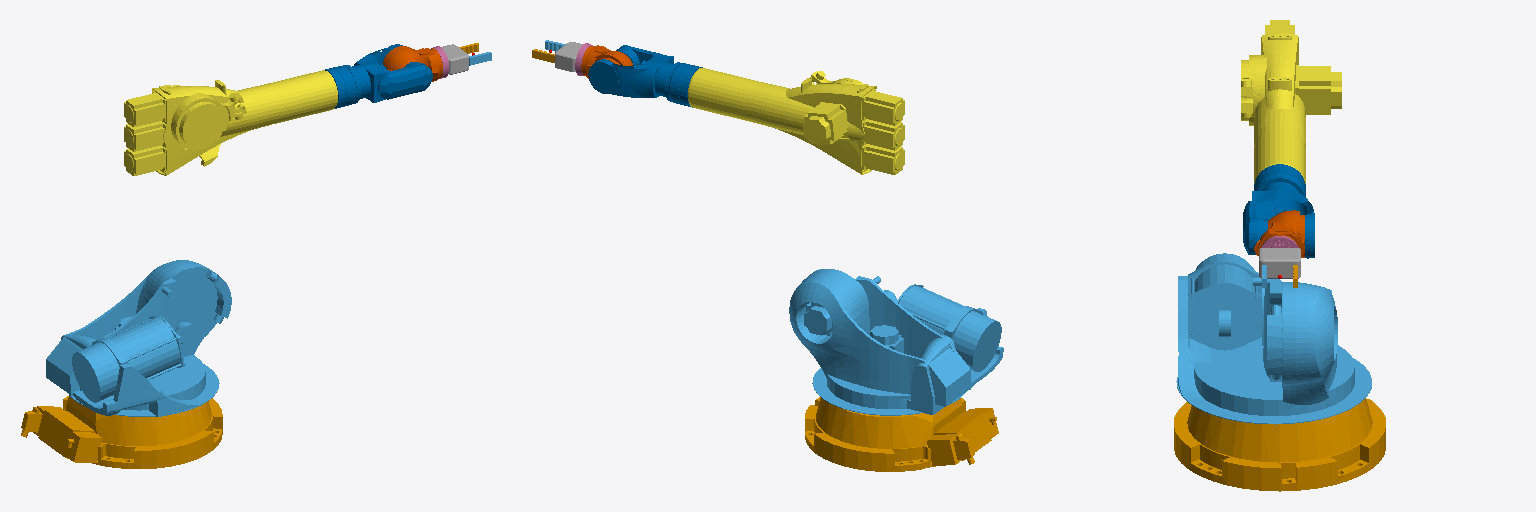
URDF robot description (robot):
<?xml version="1.0" encoding="utf-8"?>
<robot name="robot">
    <joint name="joint_1" type="revolute">
        <origin xyz="0. 0. 0.33" rpy="0. -1.5707964 0. "/>
        <parent link="robot"/>
        <child link="robot_kuka_arm_link_1_kuka_arm_link_1"/>
        <axis xyz="1. 0. 0."/>
        <limit lower="-3.2288596" upper="3.2288596" effort="0." velocity="17453.2925199"/>
    </joint>
    <joint name="joint_2" type="revolute">
        <origin xyz="0.42 0. -0.35" rpy="1.5707964 0. 1.5707964"/>
        <parent link="robot_kuka_arm_link_1_kuka_arm_link_1"/>
        <child link="kuka_arm_link_2"/>
        <axis xyz="1. 0. 0."/>
        <limit lower="-0.785398" upper="1.48353" effort="0." velocity="17453.2925199"/>
    </joint>
    <joint name="joint_3" type="revolute">
        <origin xyz="0. 0. 1.25" rpy="0. 0. 0."/>
        <parent link="kuka_arm_link_2"/>
        <child link="kuka_arm_link_3"/>
        <axis xyz="1. 0. 0."/>
        <limit lower="-3.6651898" upper="1.1344599" effort="0." velocity="17453.2925199"/>
    </joint>
    <joint name="joint_4" type="revolute">
        <origin xyz="0. -0.9599999 -0.054 " rpy="0. 0. -1.5707964"/>
        <parent link="kuka_arm_link_3"/>
        <child link="kuka_arm_link_4"/>
        <axis xyz="1. 0. 0."/>
        <limit lower="-6.1086497" upper="6.1086497" effort="0." velocity="17453.2925199"/>
    </joint>
    <joint name="joint_5" type="revolute">
        <origin xyz="0.54 0. 0. " rpy="0. 0. 1.5707964"/>
        <parent link="kuka_arm_link_4"/>
        <child link="kuka_arm_link_5"/>
        <axis xyz="1. 0. 0."/>
        <limit lower="-2.1816598" upper="2.1816598" effort="0." velocity="17453.2925199"/>
    </joint>
    <joint name="joint_6" type="revolute">
        <origin xyz="0. -0.1930001 0. " rpy="0. 0. -1.5707964"/>
        <parent link="kuka_arm_link_5"/>
        <child link="kuka_arm_link_6"/>
        <axis xyz="1. 0. 0."/>
        <limit lower="-6.1086497" upper="6.1086497" effort="0." velocity="17453.2925199"/>
    </joint>
    <joint name="left_gripper_finger_joint" type="prismatic">
        <origin xyz="0.26 0.0725 0. " rpy="3.1415927 0. -1.5707964"/>
        <parent link="kuka_arm_link_6"/>
        <child link="left_gripper_finger_link"/>
        <axis xyz="1. 0. 0."/>
        <limit lower="-0.01" upper="0.06" effort="0." velocity="1000000."/>
    </joint>
    <joint name="right_gripper_finger_joint" type="prismatic">
        <origin xyz="0.26 -0.0725 0. " rpy="0. 0. 1.5707964"/>
        <parent link="kuka_arm_link_6"/>
        <child link="right_gripper_finger_link"/>
        <axis xyz="1. 0. 0."/>
        <limit lower="-0.01" upper="0.06" effort="0." velocity="1000000."/>
    </joint>

    <joint name="gripper_joint" type="fixed">
        <parent link="kuka_arm_link_6"/>
        <child link="gripper_link"/>
        <origin rpy="1.57 0 0" xyz="0.11 0 0"/>
        <axis xyz="0 1 0"/>
    </joint>
    <joint name="gripper_tcp_joint" type="fixed">
        <origin rpy="0 0 0" xyz="0 0 0.05"/>
        <parent link="gripper_link"/>
        <child link="gripper_tcp"/>
    </joint>

    <link name="robot">
        <visual>
            <origin xyz="0. 0. 0." rpy="-0.0000091 0. 0. "/>
            <geometry>
                <mesh filename="meshes/worldBody___visuals___mesh.obj" scale="1. 1. 1."/>
            </geometry>
        </visual>
    </link>
    <link name="robot_kuka_arm_link_1_kuka_arm_link_1">
        <visual>
            <origin xyz="0. 0. 0." rpy="1.570788 1.5707964 0. "/>
            <geometry>
                <mesh filename="meshes/robot_kuka_arm_link_1_kuka_arm_link_1_visuals_mesh.obj" scale="1. 1. 1."/>
            </geometry>
        </visual>
        <visual>
            <origin xyz="0. 0. 0." rpy="1.570788 1.5707964 0. "/>
            <geometry>
                <mesh filename="meshes/robot_kuka_arm_link_1_kuka_arm_link_1_collisions_mesh.obj" scale="1. 1. 1."/>
            </geometry>
        </visual>
        <collision name="sphere_23">
            <origin xyz="0.3853171231791153 3.016968403539145e-18 -0.40294019359870453" rpy="0 0 0"/>
            <geometry>
                <sphere radius="0.2969944905889949"/>
            </geometry>
        </collision>
        <collision name="sphere_24">
            <origin xyz="0.3039056973264224 0.11361252012600448 0.26311786827710804" rpy="0 0 0"/>
            <geometry>
                <sphere radius="0.3855194494710704"/>
            </geometry>
        </collision>
        <collision name="sphere_25">
            <origin xyz="0.22964270798733716 -0.200145579561204 0.3321878437575019" rpy="0 0 0"/>
            <geometry>
                <sphere radius="0.33548914118220985"/>
            </geometry>
        </collision>
        <collision name="sphere_26">
            <origin xyz="0.35967081545282925 -0.27340428279409357 -0.03932870071404963" rpy="0 0 0"/>
            <geometry>
                <sphere radius="0.24332780241870738"/>
            </geometry>
        </collision>
        <collision name="sphere_27">
            <origin xyz="0.3497125792823665 0.1622123310040399 -0.07363408827195533" rpy="0 0 0"/>
            <geometry>
                <sphere radius="0.3158090818304898"/>
            </geometry>
        </collision>
    </link>
    <link name="kuka_arm_link_2">
        <visual>
            <origin xyz="0. 0. 0." rpy="-0.0000091 0. -1.5707964"/>
            <geometry>
                <mesh filename="meshes/kuka_arm_link_2_visuals_mesh.obj" scale="1. 1. 1."/>
            </geometry>
        </visual>
        <collision name="sphere_0">
            <origin xyz="-0.10056914088729499 0.0 0.0" rpy="0 0 0"/>
            <geometry>
                <sphere radius="0.312562771404809"/>
            </geometry>
        </collision>
        <collision name="sphere_1">
            <origin xyz="-0.20296284362704328 -5.551115123125783e-17 0.19267381739225486" rpy="0 0 0"/>
            <geometry>
                <sphere radius="0.2882773280117739"/>
            </geometry>
        </collision>
        <collision name="sphere_2">
            <origin xyz="-0.2688235077381462 0.0 0.5120850632241715" rpy="0 0 0"/>
            <geometry>
                <sphere radius="0.2599685374907719"/>
            </geometry>
        </collision>
        <collision name="sphere_3">
            <origin xyz="-0.2429457297559245 -1.6653345369377348e-16 0.7897212102688002" rpy="0 0 0"/>
            <geometry>
                <sphere radius="0.25693811033217645"/>
            </geometry>
        </collision>
        <collision name="sphere_4">
            <origin xyz="-0.2322697986708392 0.0 1.0466995171922129" rpy="0 0 0"/>
            <geometry>
                <sphere radius="0.25693811033217645"/>
            </geometry>
        </collision>
        <collision name="sphere_5">
            <origin xyz="-0.2018643112478043 -5.551115123125783e-17 1.2173413182504351" rpy="0 0 0"/>
            <geometry>
                <sphere radius="0.23358661898327102"/>
            </geometry>
        </collision>
    </link>
    <link name="kuka_arm_link_3">
        <visual>
            <origin xyz="-0.184 0. 0. " rpy="-0.0000091 0. -1.5707964"/>
            <geometry>
                <mesh filename="meshes/kuka_arm_link_3_visuals_mesh.obj" scale="1. 1. 1."/>
            </geometry>
        </visual>
        <collision name="sphere_6">
            <origin xyz="-1.3010518714054659e-17 0.31055029167029724 -0.03488192925599143" rpy="0 0 0"/>
            <geometry>
                <sphere radius="0.32892536519372145"/>
            </geometry>
        </collision>
        <collision name="sphere_7">
            <origin xyz="-0.010269733629968511 5.551115123125783e-17 0.0" rpy="0 0 0"/>
            <geometry>
                <sphere radius="0.37246399938456065"/>
            </geometry>
        </collision>
        <collision name="sphere_8">
            <origin xyz="-0.004899208735049537 -0.4036089099633981 -0.02669932418063703" rpy="0 0 0"/>
            <geometry>
                <sphere radius="0.20655031539590454"/>
            </geometry>
        </collision>
        <collision name="sphere_9">
            <origin xyz="-2.775566825985752e-17 -0.650587462939314 -0.05279828184548685" rpy="0 0 0"/>
            <geometry>
                <sphere radius="0.20655031539590454"/>
            </geometry>
        </collision>
        <collision name="sphere_10">
            <origin xyz="-1.3877880452043063e-17 -0.8658041427243452 -0.05263752410922362" rpy="0 0 0"/>
            <geometry>
                <sphere radius="0.20655031539590454"/>
            </geometry>
        </collision>
    </link>
    <link name="kuka_arm_link_4">
        <visual>
            <origin xyz="0. 0. 0." rpy="-0.0000091 0. 0. "/>
            <geometry>
                <mesh filename="meshes/kuka_arm_link_4_visuals_mesh.obj" scale="1. 1. 1."/>
            </geometry>
        </visual>
        <collision name="sphere_11">
            <origin xyz="0.047247304363761344 8.326678640389084e-17 -2.220446049250313e-16" rpy="0 0 0"/>
            <geometry>
                <sphere radius="0.1794211617259098"/>
            </geometry>
        </collision>
        <collision name="sphere_12">
            <origin xyz="0.3010660948523467 1.3877793763514867e-16 -4.440892098500626e-16" rpy="0 0 0"/>
            <geometry>
                <sphere radius="0.1794211617259098"/>
            </geometry>
        </collision>
        <collision name="sphere_13">
            <origin xyz="0.49201724313219164 2.775563517263302e-17 -2.220446049250313e-16" rpy="0 0 0"/>
            <geometry>
                <sphere radius="0.24607203187629179"/>
            </geometry>
        </collision>
    </link>
    <link name="kuka_arm_link_5">
        <visual>
            <origin xyz="0. 0.0000001 0. " rpy="-0.0000091 0. -1.5707964"/>
            <geometry>
                <mesh filename="meshes/kuka_arm_link_5_visuals_mesh.obj" scale="1. 1. 1."/>
            </geometry>
        </visual>
        <collision name="sphere_14">
            <origin xyz="-0.00517521934122922 -0.06717495437991183 2.220446049250313e-16" rpy="0 0 0"/>
            <geometry>
                <sphere radius="0.2125868474637989"/>
            </geometry>
        </collision>
    </link>
    <link name="kuka_arm_link_6">
        <visual>
            <origin xyz="0.0000001 0. 0. " rpy="1.570788 0. 0. "/>
            <geometry>
                <mesh filename="meshes/kuka_arm_link_6_visuals_mesh.obj" scale="1. 1. 1."/>
            </geometry>
        </visual>
    </link>
    <link name="gripper_link">
        <inertial>
            <origin rpy="0 0 0" xyz="0 0 0"/>
            <mass value="0.3"/>
            <inertia ixx="0.0001" ixy="0" ixz="0" iyy="0.0002" iyz="0" izz="0.0001"/>
        </inertial>
        <visual>
            <origin rpy="0 0 0" xyz="0 0 0"/>
            <geometry>
                <mesh filename="meshes/kuka_arm_link_6_visuals_gripper_base_mesh.obj"/>
            </geometry>
        </visual>
        <collision name="sphere_15">
            <origin xyz="-0.008610050657241963 2.220446049250313e-16 5.789639601072594e-17" rpy="0 0 0"/>
            <geometry>
                <sphere radius="0.12986939348734478"/>
            </geometry>
        </collision>
    </link>
    <link name="left_gripper_finger_link">
        <visual>
            <origin xyz="0. 0. 0." rpy="-1.5708046 0. -1.5707964"/>
            <geometry>
                <mesh filename="meshes/left_gripper_finger_link_visuals_mesh.obj" scale="1. 1. 1."/>
            </geometry>
        </visual>
        <collision name="sphere_19">
            <origin xyz="-0.0009867102377992681 0.028810712307991704 0.0" rpy="0 0 0"/>
            <geometry>
                <sphere radius="0.029496874713989374"/>
            </geometry>
        </collision>
        <collision name="sphere_20">
            <origin xyz="-0.0007529923397825294 4.440892098500626e-16 -2.220446049250313e-16" rpy="0 0 0"/>
            <geometry>
                <sphere radius="0.029496874713989374"/>
            </geometry>
        </collision>
        <collision name="sphere_21">
            <origin xyz="-0.0014462733000717848 -0.027893947890389903 0.0" rpy="0 0 0"/>
            <geometry>
                <sphere radius="0.029496874713989374"/>
            </geometry>
        </collision>
        <collision name="sphere_22">
            <origin xyz="-7.881778214532259e-05 -0.06047734771457369 0.00014119311356375341" rpy="0 0 0"/>
            <geometry>
                <sphere radius="0.029496874713989374"/>
            </geometry>
        </collision>
    </link>
    <link name="right_gripper_finger_link">
        <visual>
            <origin xyz="0. 0. 0." rpy="1.570788 0. -1.5707964"/>
            <geometry>
                <mesh filename="meshes/right_gripper_finger_link_visuals_mesh.obj" scale="1. 1. 1."/>
            </geometry>
        </visual>
        <collision name="sphere_16">
            <origin xyz="0.005412433844058935 0.01492794005638931 4.440892098500626e-16" rpy="0 0 0"/>
            <geometry>
                <sphere radius="0.03133081721050732"/>
            </geometry>
        </collision>
        <collision name="sphere_17">
            <origin xyz="0.004998117508912749 -0.02704602253331334 -2.220446049250313e-16" rpy="0 0 0"/>
            <geometry>
                <sphere radius="0.03133081721050732"/>
            </geometry>
        </collision>
        <collision name="sphere_18">
            <origin xyz="0.0014777731542005637 -0.06054847324793933 0.0005669492960314049" rpy="0 0 0"/>
            <geometry>
                <sphere radius="0.03133081721050732"/>
            </geometry>
        </collision>
    </link>
    <link name="gripper_tcp">
        <visual>
            <origin xyz="0.15 0 -0.05" rpy="0 0 0"/>
            <geometry>
                <sphere radius="0.01"/>
            </geometry>
            <material name="red">
                <color rgba="1 0 0 1"/>
            </material>
        </visual>
    </link>
</robot>

--- Render facts (derived) ---
Views: 3 orthographic renders of the robot side by side, from view 1: azimuth 30°, elevation 25°; view 2: azimuth 150°, elevation 25°; view 3: azimuth 270°, elevation 25°.
Model robot with 11 links and 10 joints (6 revolute, 2 prismatic, 2 fixed), rooted at robot, posed every joint at zero.
Visible links, largest first — view 1: robot_kuka_arm_link_1_kuka_arm_link_1, kuka_arm_link_3, robot, kuka_arm_link_4, kuka_arm_link_5, gripper_link; view 2: robot_kuka_arm_link_1_kuka_arm_link_1, kuka_arm_link_3, robot, kuka_arm_link_4, kuka_arm_link_5, gripper_link; view 3: robot_kuka_arm_link_1_kuka_arm_link_1, robot, kuka_arm_link_3, kuka_arm_link_4, kuka_arm_link_5, gripper_link.
Link boxes in pixels (box(x1,y1,x2,y2)): robot_kuka_arm_link_1_kuka_arm_link_1: box(46, 260, 231, 416); kuka_arm_link_3: box(124, 70, 337, 175); robot: box(21, 396, 222, 468); kuka_arm_link_4: box(325, 44, 432, 108); kuka_arm_link_5: box(383, 46, 442, 81); gripper_link: box(442, 44, 468, 74); robot_kuka_arm_link_1_kuka_arm_link_1: box(789, 269, 1003, 415); kuka_arm_link_3: box(688, 68, 904, 174); robot: box(805, 397, 998, 471); kuka_arm_link_4: box(588, 45, 702, 107); kuka_arm_link_5: box(581, 45, 632, 78); gripper_link: box(555, 42, 582, 71); robot_kuka_arm_link_1_kuka_arm_link_1: box(1176, 253, 1371, 424); robot: box(1174, 398, 1385, 491); kuka_arm_link_3: box(1241, 20, 1341, 183); kuka_arm_link_4: box(1243, 164, 1314, 258); kuka_arm_link_5: box(1254, 210, 1304, 257); gripper_link: box(1259, 248, 1300, 278).
Bounding box of the posed robot: 3.06 × 0.9994 × 2.21 m (x, y, z).
10 mesh visuals loaded from 11 distinct referenced files (10 OBJ); not drawn: 1 (reference not matched to a file when rendering).